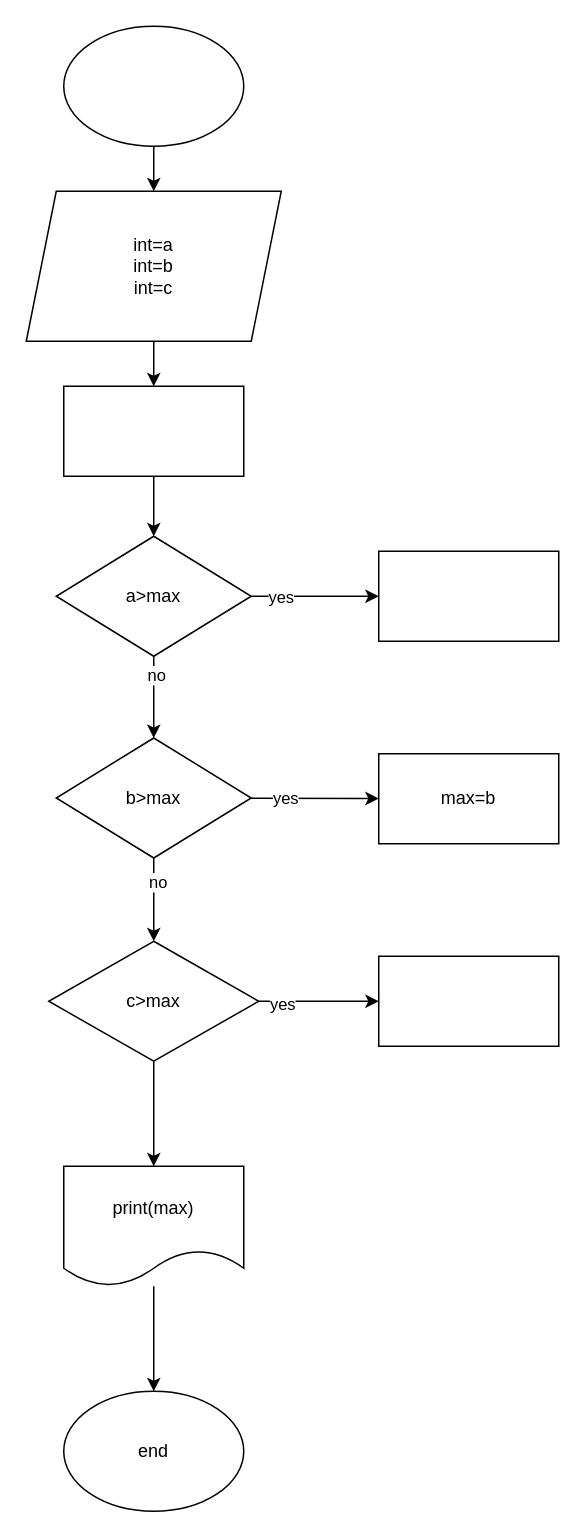
This 585x1538 diagram has some shape labels left out. The shapes that lost their labels are listed below. From the top down, each one's centre as x and y in pixels, then its label:
At (x=153, y=85): "start".
At (x=153, y=430): "int a= max".
At (x=468, y=595): "max=a".
At (x=468, y=1000): "c=max".
